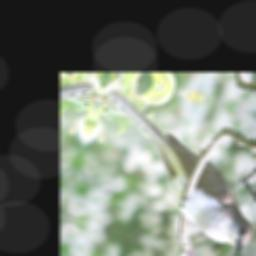Cuckoo: (70, 86, 256, 256)
